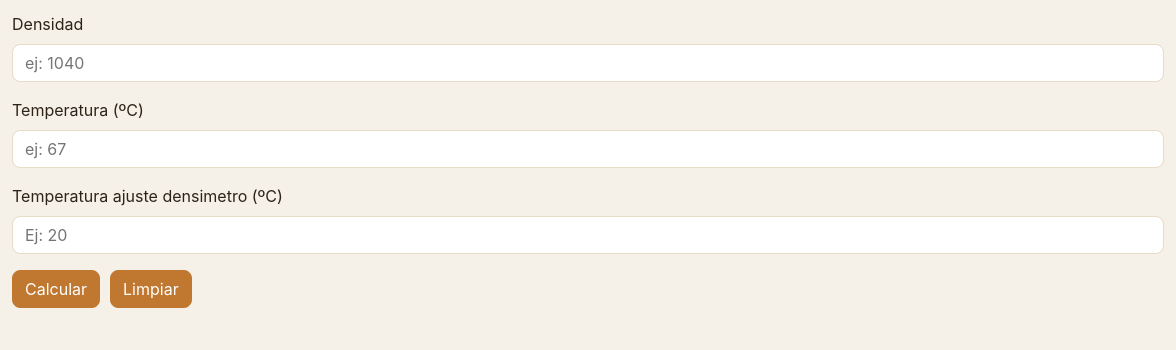
it: Hydrometer › muestra la densidad corregida con valores válidos
Type "1040" into the field with placeholder "ej: 1040" at (588, 63), box [12, 44, 1164, 82]
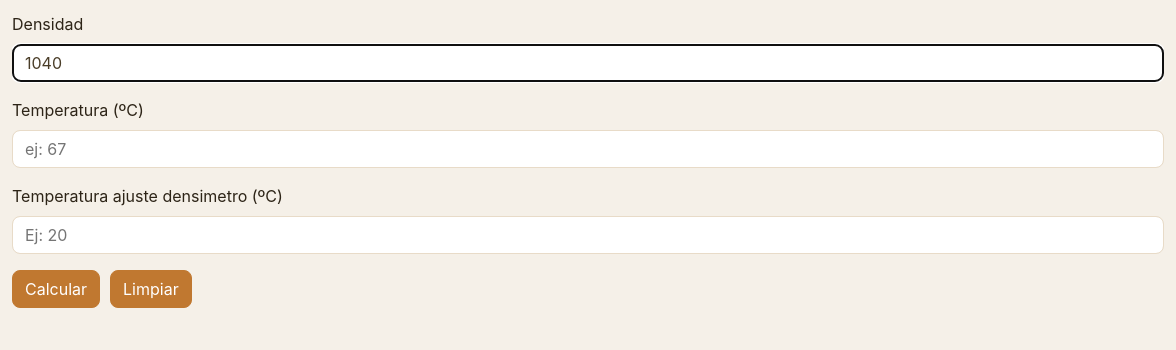
Type "20" into the field with placeholder "ej: 67" at (588, 149), box [12, 130, 1164, 168]
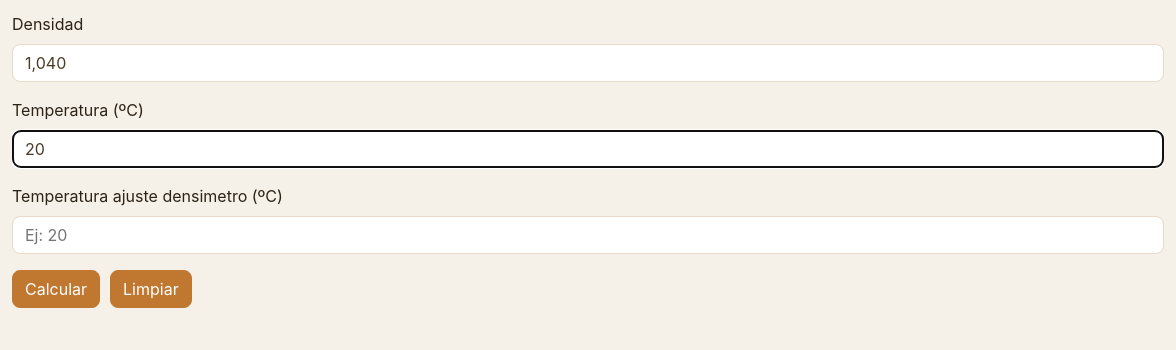
Type "20" into the field with placeholder "Ej: 20" at (588, 235), box [12, 216, 1164, 254]
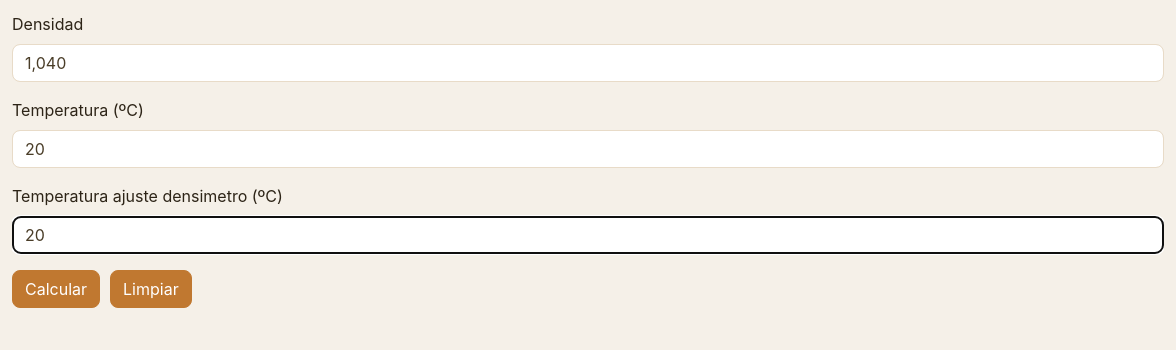
Click the button "Calcular" at (56, 289), box [12, 270, 100, 308]
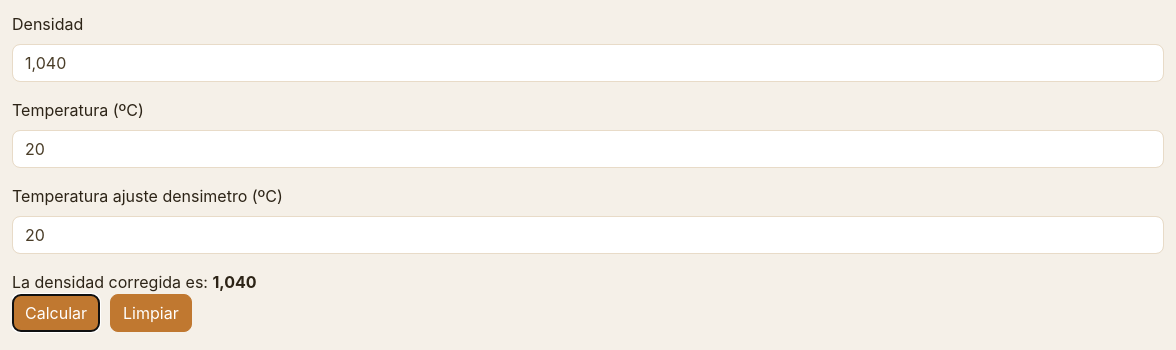
Result: the text "La densidad corregida es: 1,040" is shown at [12, 272, 257, 292]
